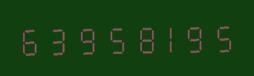eight: (125, 20, 151, 55)
five: (98, 20, 124, 56), (206, 18, 232, 54)
nine: (71, 20, 97, 56), (179, 19, 205, 54)
one: (152, 19, 178, 55)
six: (17, 21, 43, 57)
three: (44, 21, 70, 56)
